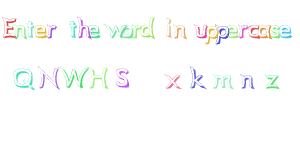E: (1, 15, 18, 38)
H: (89, 67, 109, 89)
N: (38, 65, 60, 90)
Q: (12, 68, 35, 90)
S: (115, 67, 129, 88)
W: (60, 67, 88, 88)
a: (257, 21, 272, 40)
c: (247, 22, 260, 39)
d: (139, 14, 155, 39)
e: (226, 23, 239, 39), (88, 23, 101, 38), (278, 23, 291, 38), (34, 24, 47, 38)
h: (77, 15, 90, 39)
i: (164, 16, 173, 38)
k: (189, 65, 207, 89)
m: (212, 74, 233, 89)
n: (240, 73, 255, 89), (13, 24, 28, 39), (173, 24, 187, 39)
o: (120, 24, 133, 39)
p: (214, 22, 229, 46), (205, 23, 219, 46)
r: (237, 23, 249, 40), (131, 23, 142, 39), (46, 23, 57, 38)
s: (269, 21, 280, 39)
t: (26, 18, 35, 38), (68, 20, 76, 38)
u: (194, 23, 209, 38)
w: (103, 23, 124, 38)
x: (164, 73, 181, 89)
z: (265, 73, 279, 88)
